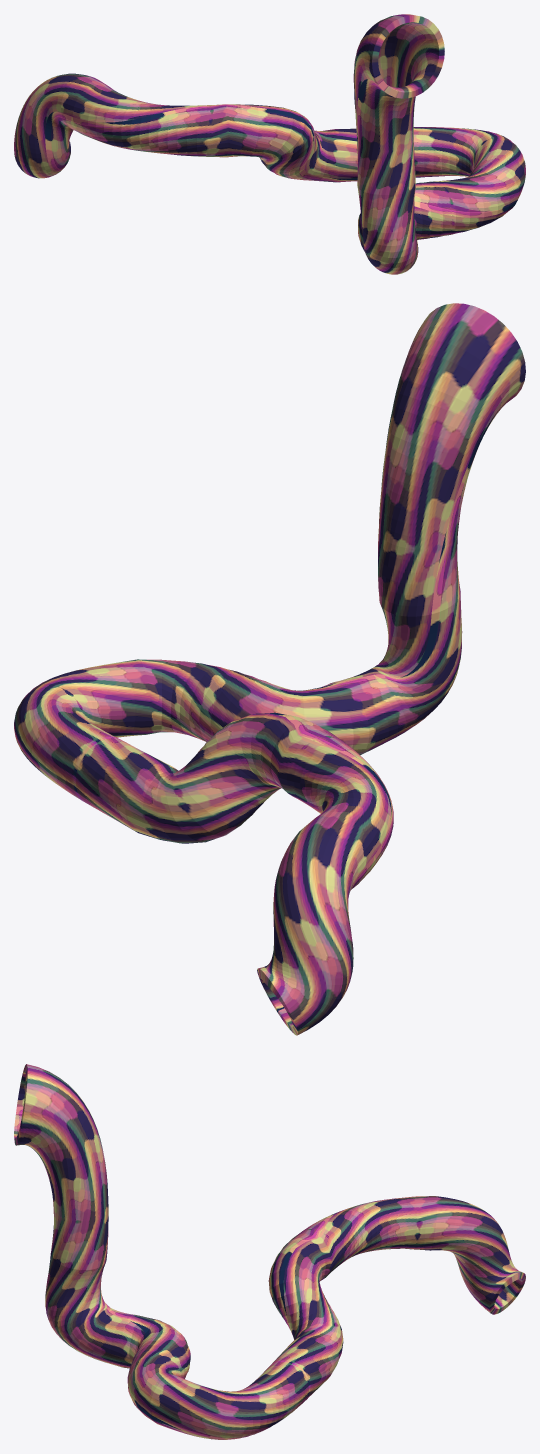
File: Worm tunnels .fbx
The picture shows the model from 3 angles, top to bottom: view 1: azimuth 30°, elevation 25°; view 2: azimuth 150°, elevation 25°; view 3: azimuth 270°, elevation 25°; orthographic projection. The views are drawn at different scales.
Visible parts, largest first — view 1: worm looking tunnel; view 2: worm looking tunnel; view 3: worm looking tunnel.
Boxes of the visible parts, x1,y1,x2,y2 form: worm looking tunnel: (14,14,525,274); worm looking tunnel: (14,303,525,1035); worm looking tunnel: (14,1064,525,1439).
Bounding box in the file's own units: 3591 × 2925 × 4517.
